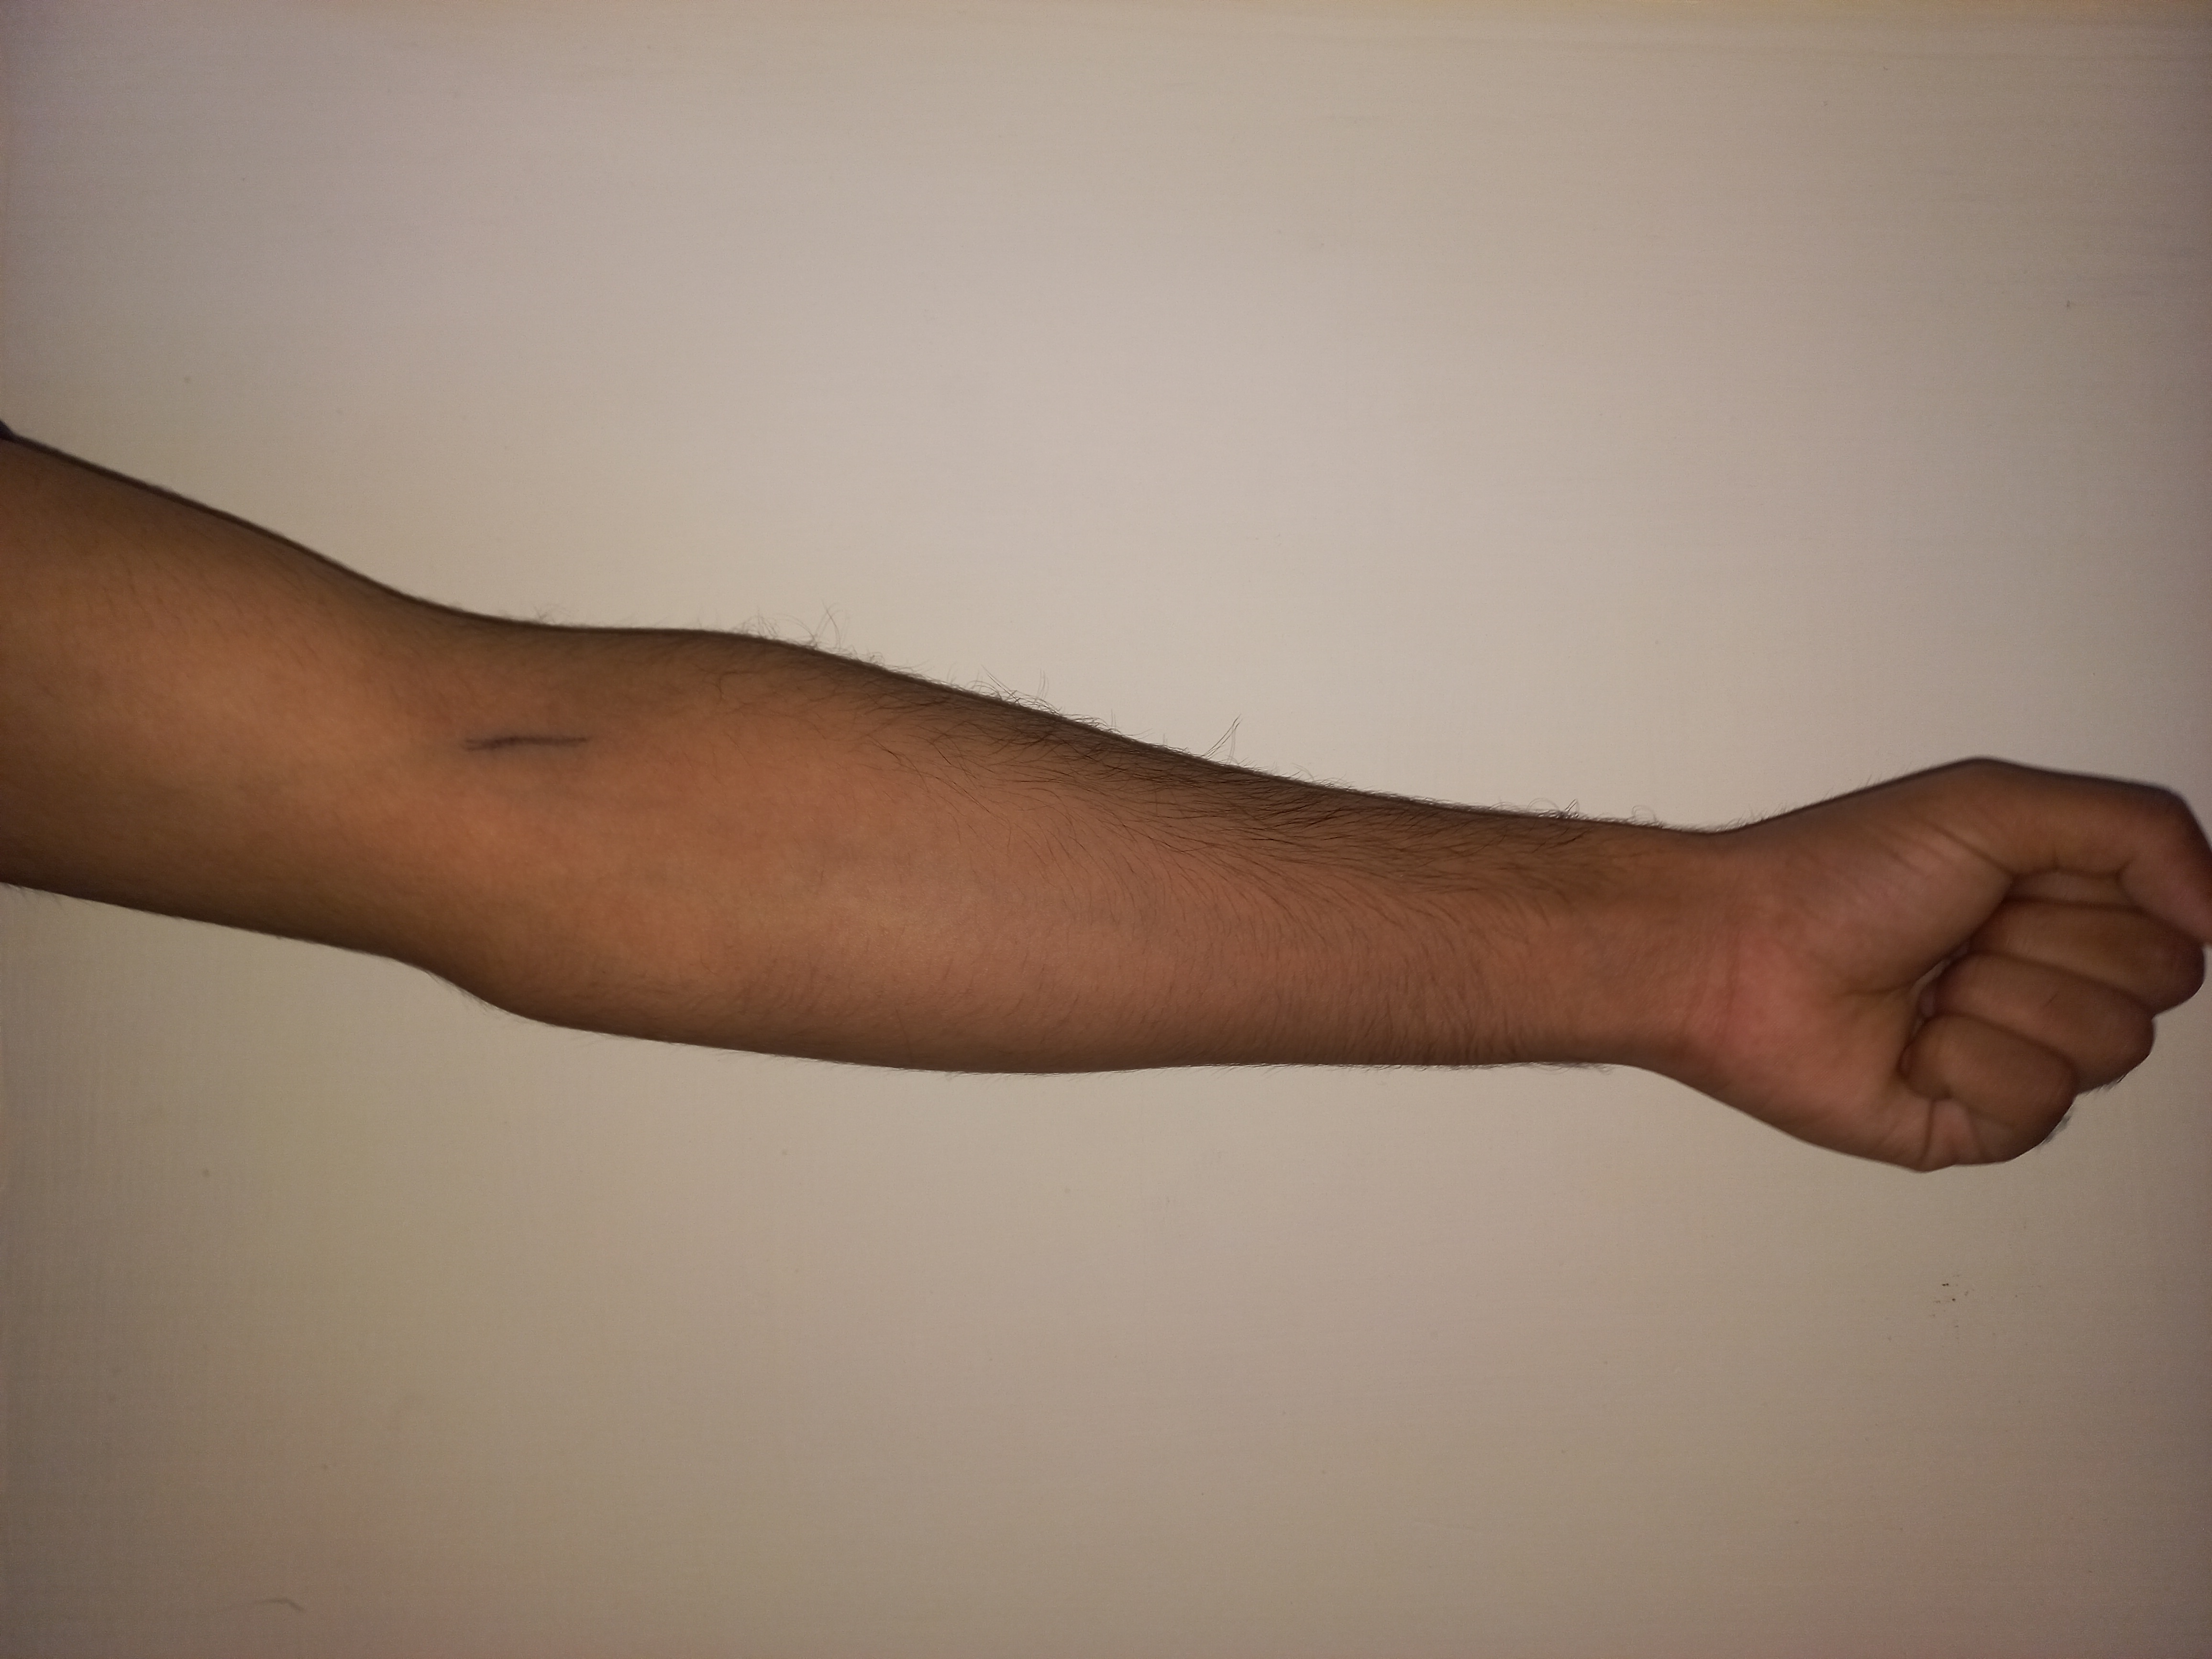vein: (448, 716, 617, 772)
